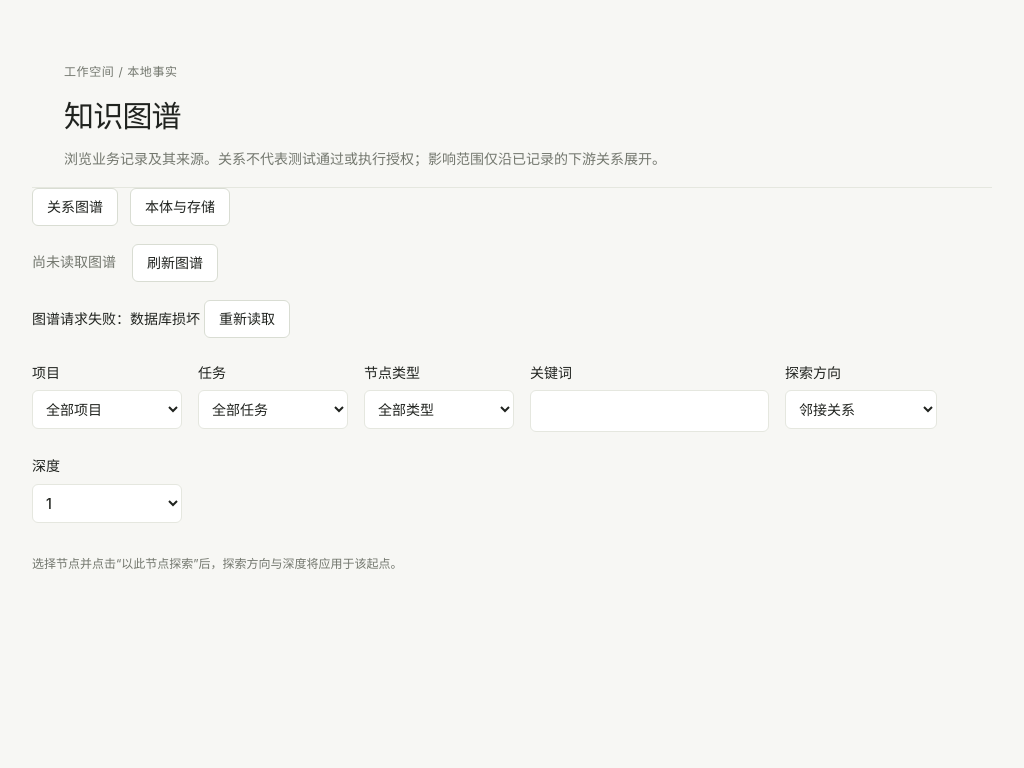
reports failures and retries
Expected: the text "图谱请求失败：数据库损坏 重新读取" is shown, [32,300,290,338]
Click the button "重新读取".
click(247, 319)  # box [204,300,290,338]
(page scrolled)
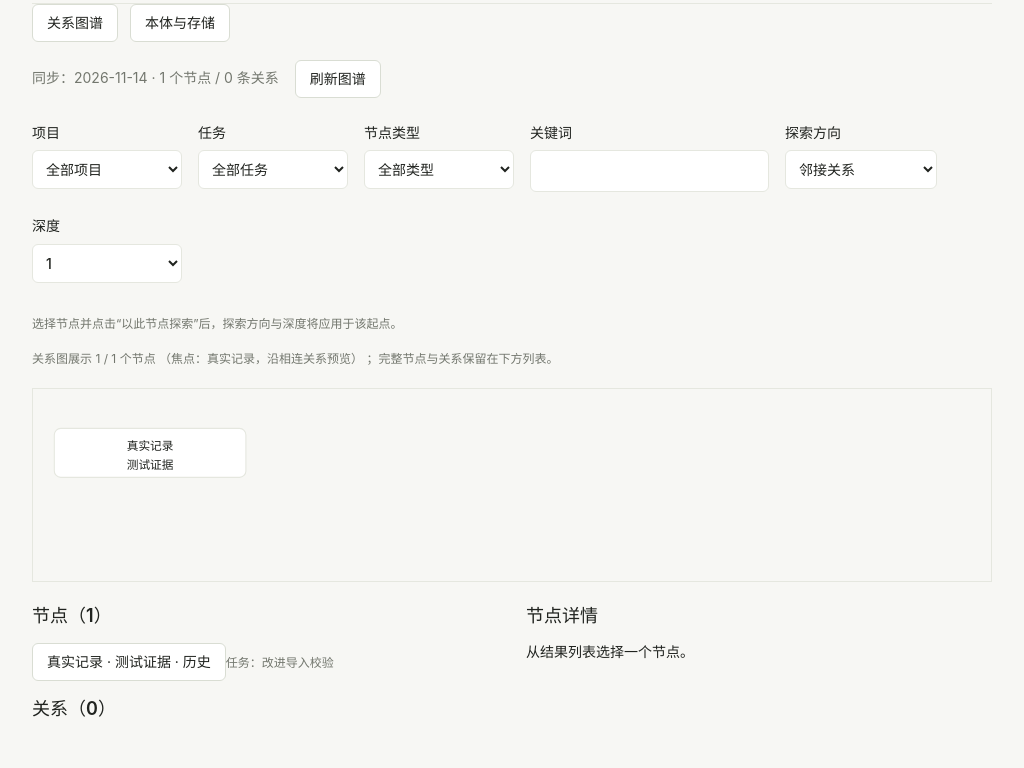
Expected: the button "真实记录 · 测试证据 · 历史" is shown, [32,643,226,681]
